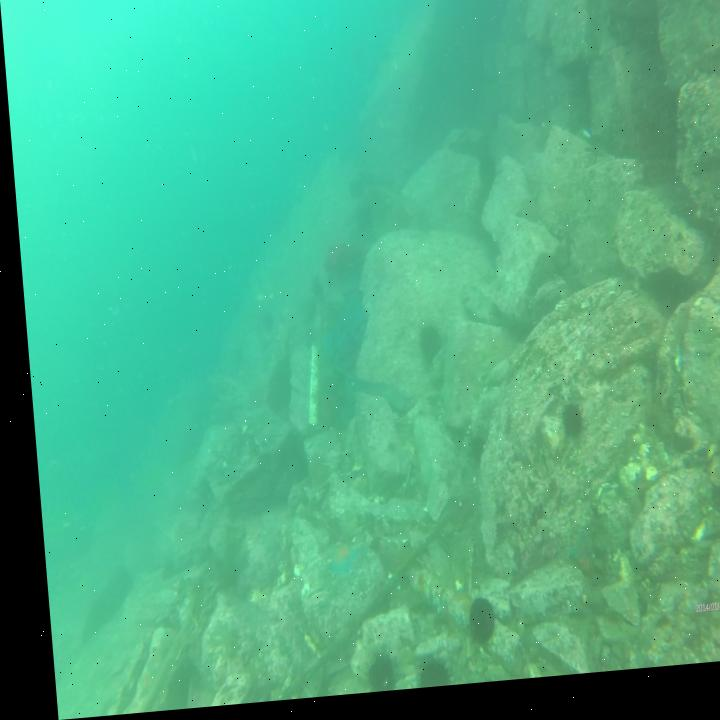echinus: (349, 649, 387, 699), (452, 598, 486, 652), (399, 657, 438, 695), (551, 409, 578, 453), (411, 327, 436, 368), (710, 433, 720, 505)
starfish: (316, 543, 352, 589)
